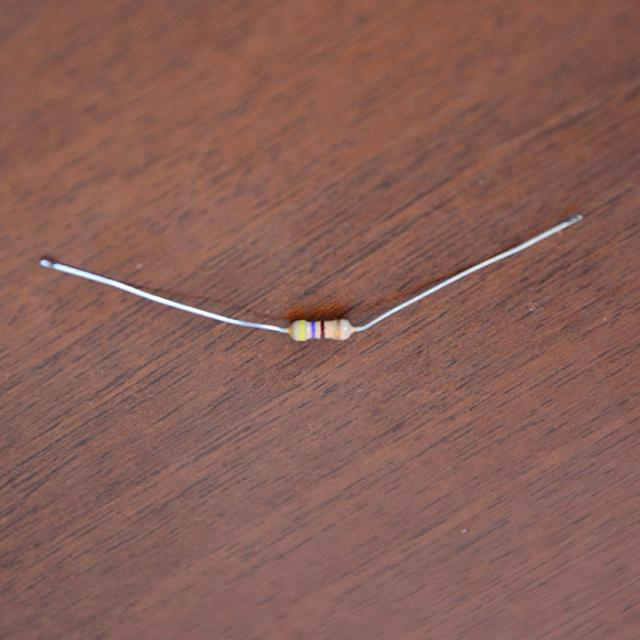brown: (320, 321, 324, 336)
gold: (335, 319, 342, 338)
resistor: (290, 315, 350, 342)
violet: (311, 321, 315, 337)
yellow: (300, 321, 306, 339)
